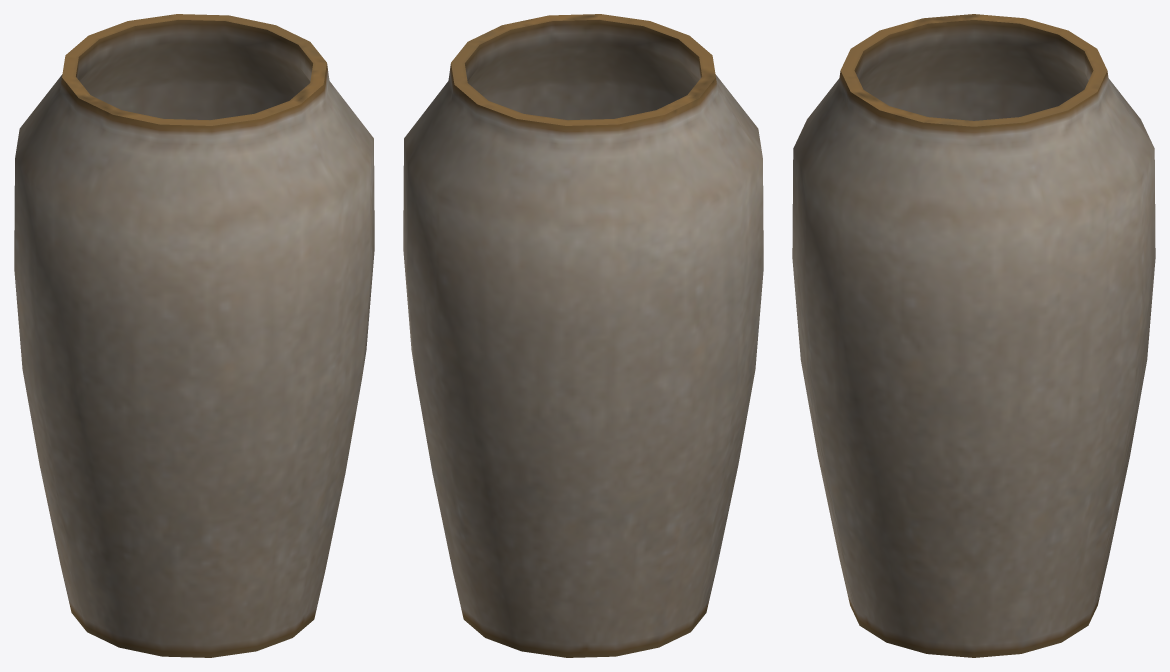
Rendered from o_com_zhuangshi_01.fbx.
The picture shows the model from 3 angles, left to right: view 1: azimuth 30°, elevation 25°; view 2: azimuth 150°, elevation 25°; view 3: azimuth 270°, elevation 25°; orthographic projection.
Visible parts, largest first — view 1: o_com_zhuangshi_01; view 2: o_com_zhuangshi_01; view 3: o_com_zhuangshi_01.
Part boxes in pixels (x1,y1,x2,y2): o_com_zhuangshi_01: (14,14,374,657); o_com_zhuangshi_01: (403,14,763,657); o_com_zhuangshi_01: (792,14,1155,657).
Size of the model in its own units: 11.69 by 19.01 by 11.69.
